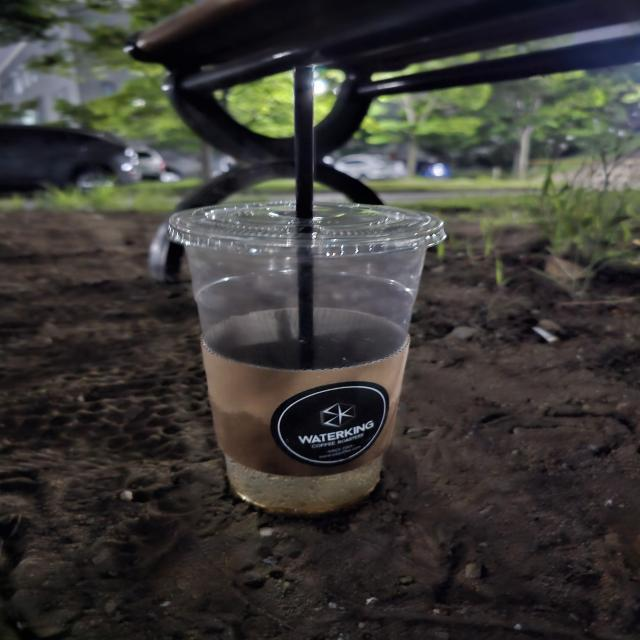cup: (162, 193, 448, 522)
